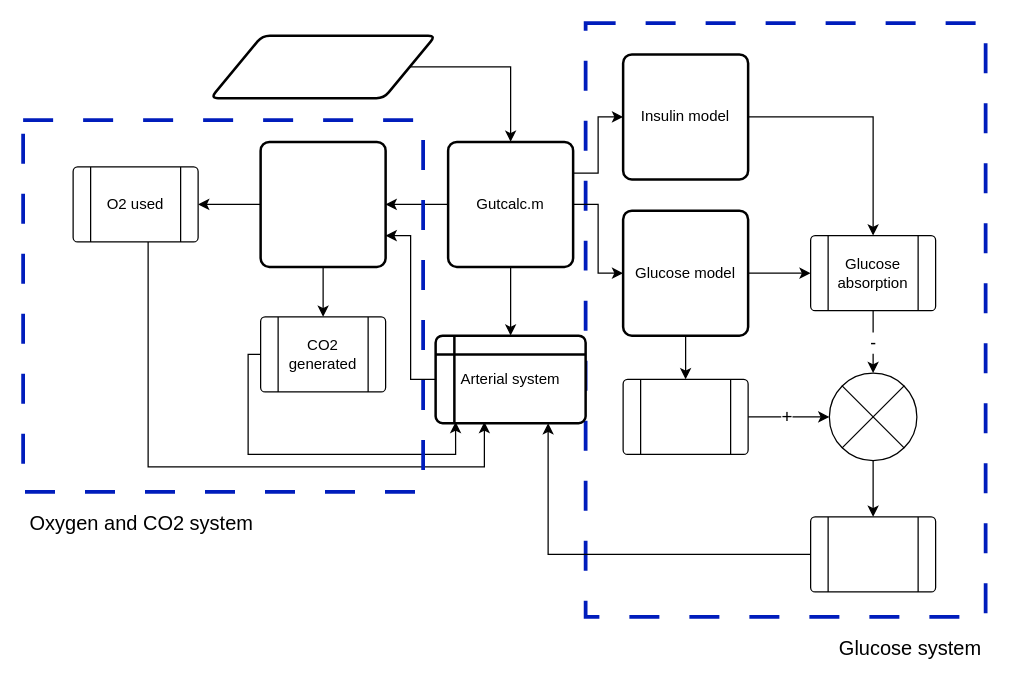
The diagram is 1009 pixels wide and 689 high, and some of its shapes have lost their labels. Each missing label, with the centre of its shape:
Glucose generation: (685,416)
Glucose outputs: (872,554)
Input values: (322,66)
O2 & CO2 model: (322,204)
